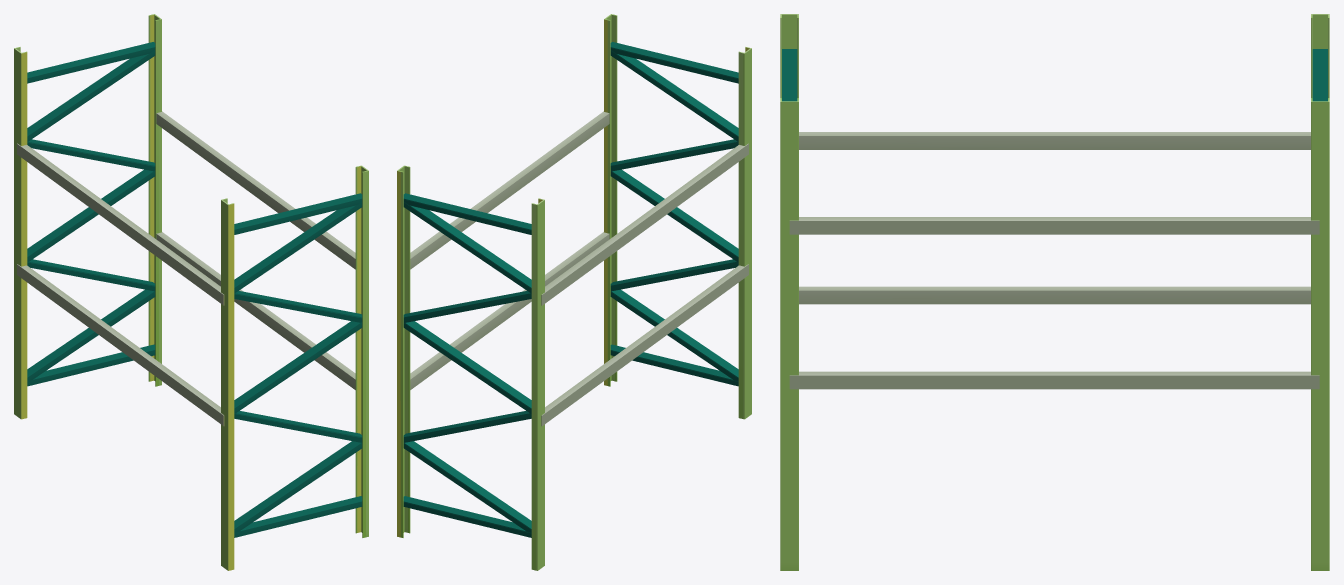
Rendered from SM_Build_Schwerlastregal_ohne_Boeden.fbx.
The picture shows the model from 3 angles, left to right: view 1: azimuth 30°, elevation 25°; view 2: azimuth 150°, elevation 25°; view 3: azimuth 270°, elevation 25°; orthographic projection. The views are drawn at different scales.
Parts seen in each view (by area): view 1: Schwerlastregal ohne Böden; view 2: Schwerlastregal ohne Böden; view 3: Schwerlastregal ohne Böden.
Boxes of the visible parts, bbox=[...] form: Schwerlastregal ohne Böden: bbox=[14, 14, 368, 570]; Schwerlastregal ohne Böden: bbox=[397, 14, 751, 570]; Schwerlastregal ohne Böden: bbox=[780, 14, 1329, 570].
Size of the model in its own units: 1.11 by 2.73 by 2.9.
